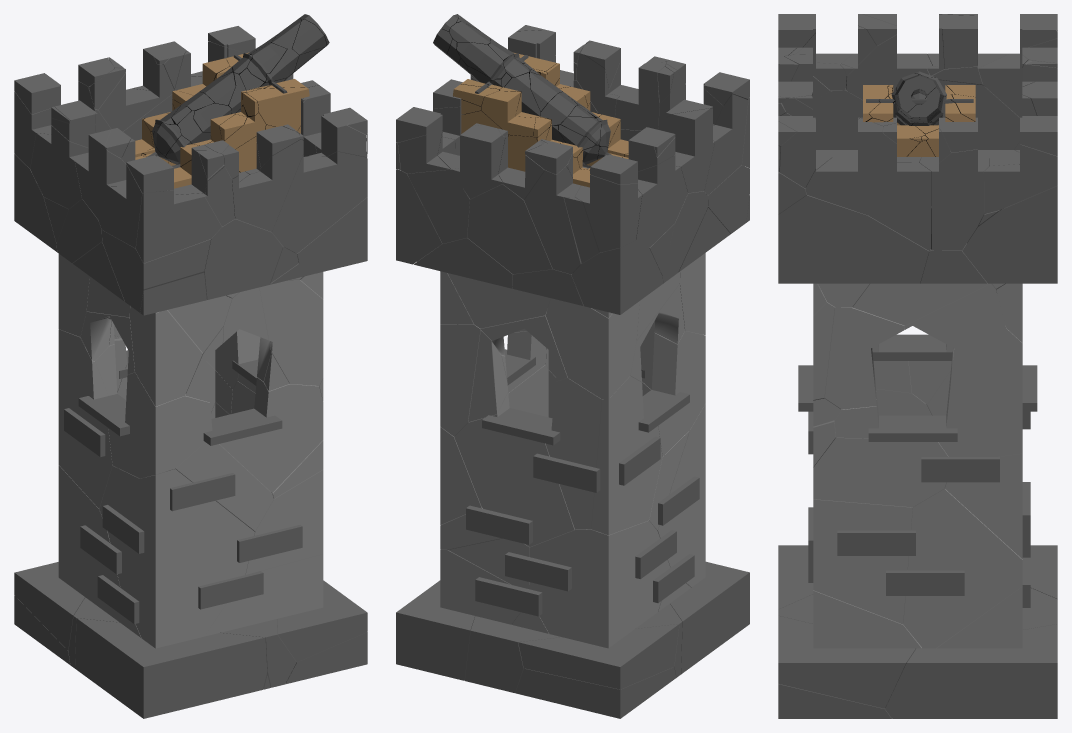
The model's file is stoneTowerFractured.fbx.
The picture shows the model from 3 angles, left to right: view 1: azimuth 30°, elevation 25°; view 2: azimuth 150°, elevation 25°; view 3: azimuth 270°, elevation 25°; orthographic projection. The views are drawn at different scales.
Visible parts, largest first — view 1: Box001_cell.030, Box003_cell.006, Box001_cell.047, Box001_cell.033, Box002_cell.022, Box001_cell.021, Box001_cell.023, Box001_cell.044, Box001_cell.015, Box002_cell.051, Box001_cell.009, Box002_cell.043 (+62 smaller); view 2: Box001_cell.020, Box001_cell.032, Box001_cell.021, Box003_cell, Box001_cell, Box003_cell.006, Box003_cell.004, Box001_cell.047, Box002_cell.057, Box003_cell.005, Box001_cell.045, Box002_cell.042 (+68 smaller); view 3: Box003_cell.004, Box001_cell.042, Box002_cell.068, Box001_cell.018, Box001_cell.026, Box001_cell.034, Box003_cell.007, Box002_cell.005, Box001_cell.038, Box002_cell.063, Box002_cell.069, Box001_cell.040 (+56 smaller).
Boxes of the visible parts, x1=… form: Box001_cell.030: x1=108, y1=469, x2=254, y2=648; Box003_cell.006: x1=75, y1=618, x2=267, y2=718; Box001_cell.047: x1=108, y1=372, x2=212, y2=478; Box001_cell.033: x1=220, y1=377, x2=323, y2=492; Box002_cell.022: x1=272, y1=151, x2=367, y2=253; Box001_cell.021: x1=58, y1=329, x2=112, y2=508; Box001_cell.023: x1=259, y1=280, x2=323, y2=385; Box001_cell.044: x1=130, y1=306, x2=203, y2=406; Box001_cell.015: x1=204, y1=554, x2=323, y2=636; Box002_cell.051: x1=204, y1=218, x2=283, y2=299; Box001_cell.009: x1=99, y1=442, x2=273, y2=531; Box002_cell.043: x1=136, y1=190, x2=221, y2=263; Box001_cell.020: x1=529, y1=520, x2=670, y2=648; Box001_cell.032: x1=454, y1=392, x2=574, y2=546; Box001_cell.021: x1=591, y1=376, x2=662, y2=535; Box003_cell: x1=518, y1=624, x2=679, y2=689; Box001_cell: x1=545, y1=298, x2=639, y2=399; Box003_cell.006: x1=670, y1=561, x2=749, y2=674; Box003_cell.004: x1=396, y1=580, x2=475, y2=680; Box001_cell.047: x1=640, y1=320, x2=705, y2=456; Box002_cell.057: x1=467, y1=184, x2=553, y2=274; Box003_cell.005: x1=465, y1=604, x2=682, y2=692; Box001_cell.045: x1=545, y1=378, x2=601, y2=529; Box002_cell.042: x1=571, y1=240, x2=662, y2=314; Box003_cell.004: x1=885, y1=624, x2=1057, y2=718; Box001_cell.042: x1=903, y1=488, x2=1022, y2=648; Box002_cell.068: x1=778, y1=195, x2=928, y2=283; Box001_cell.018: x1=813, y1=499, x2=912, y2=624; Box001_cell.026: x1=938, y1=326, x2=1022, y2=456; Box001_cell.034: x1=813, y1=437, x2=948, y2=507; Box003_cell.007: x1=778, y1=616, x2=915, y2=708; Box002_cell.005: x1=962, y1=185, x2=1057, y2=283; Box001_cell.038: x1=824, y1=307, x2=904, y2=409; Box002_cell.063: x1=919, y1=149, x2=989, y2=250; Box002_cell.069: x1=868, y1=135, x2=931, y2=250; Box001_cell.040: x1=904, y1=283, x2=1005, y2=388.
Bounding box in the file's own units: 167 × 390 × 152.
